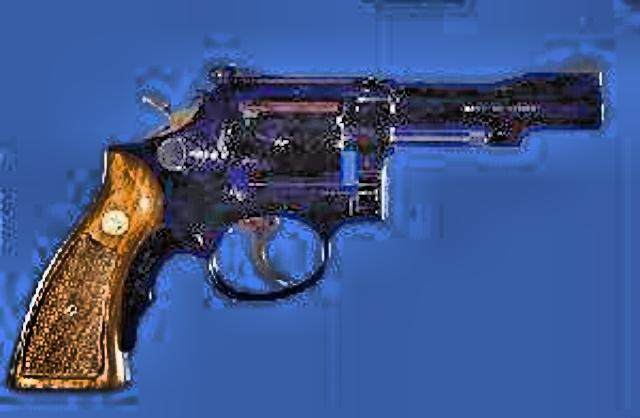pistol: (4, 56, 602, 386)
